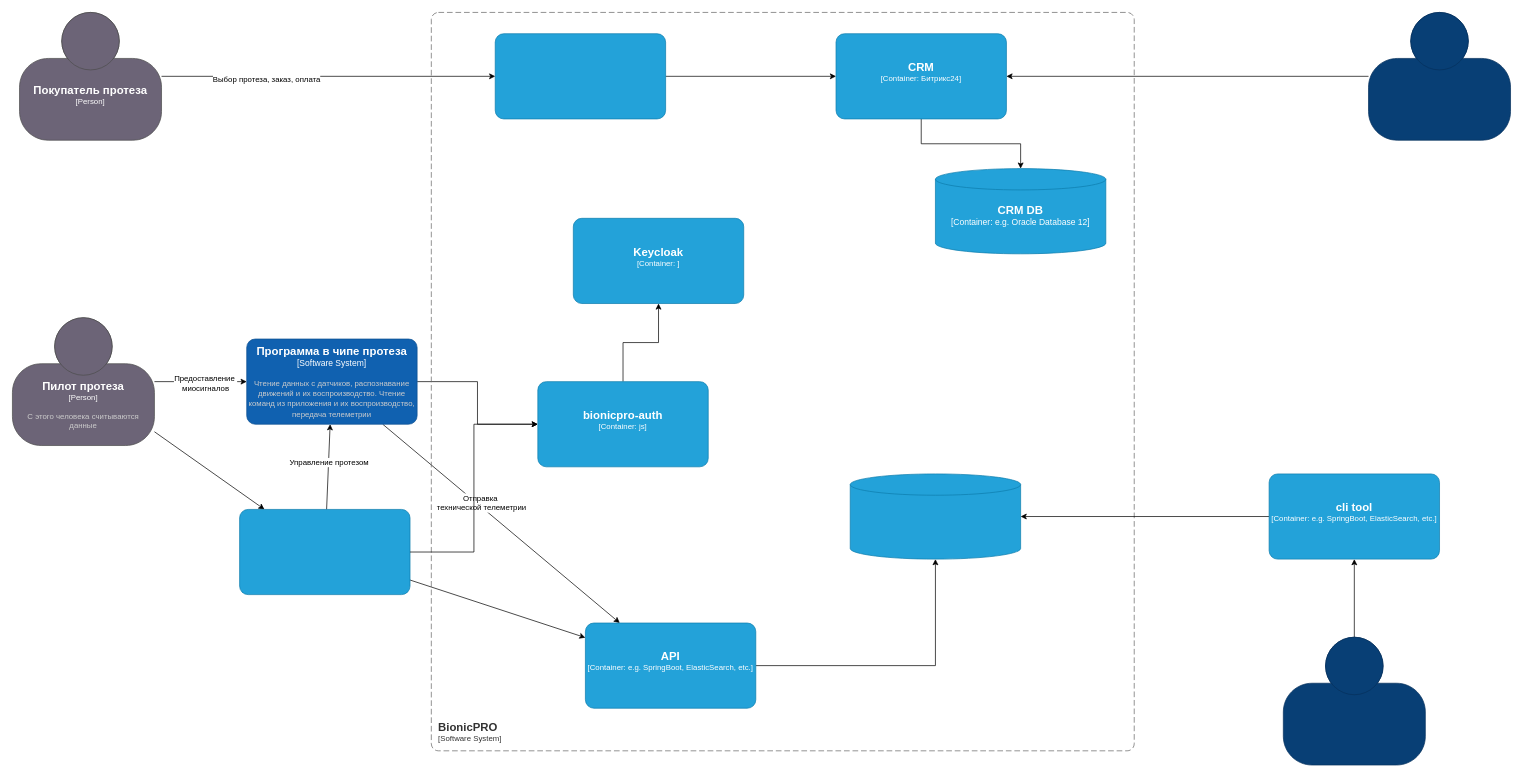
Some shapes in this 1523 by 777 pixel diagram are drawn without their labels. Each missing label, with the centre of its shape:
"ML-инженер [Person]" belongs at [1354,701].
"База данных [Container: PostgreSQL]" belongs at [935,516].
"Интернет-магазин [Container: Битрикс24]" belongs at [580,76].
"Оператор производства [Person]" belongs at [1439,76].
"Приложение для донастройки протеза [Container: iOD, Android]" belongs at [324,552].
